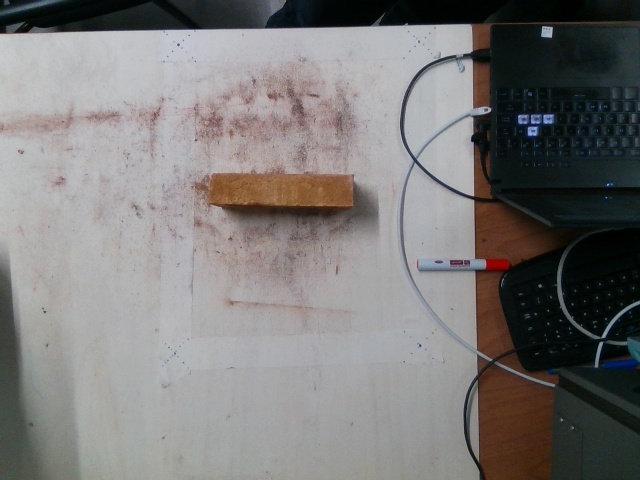brick-side: (209, 172, 353, 206)
